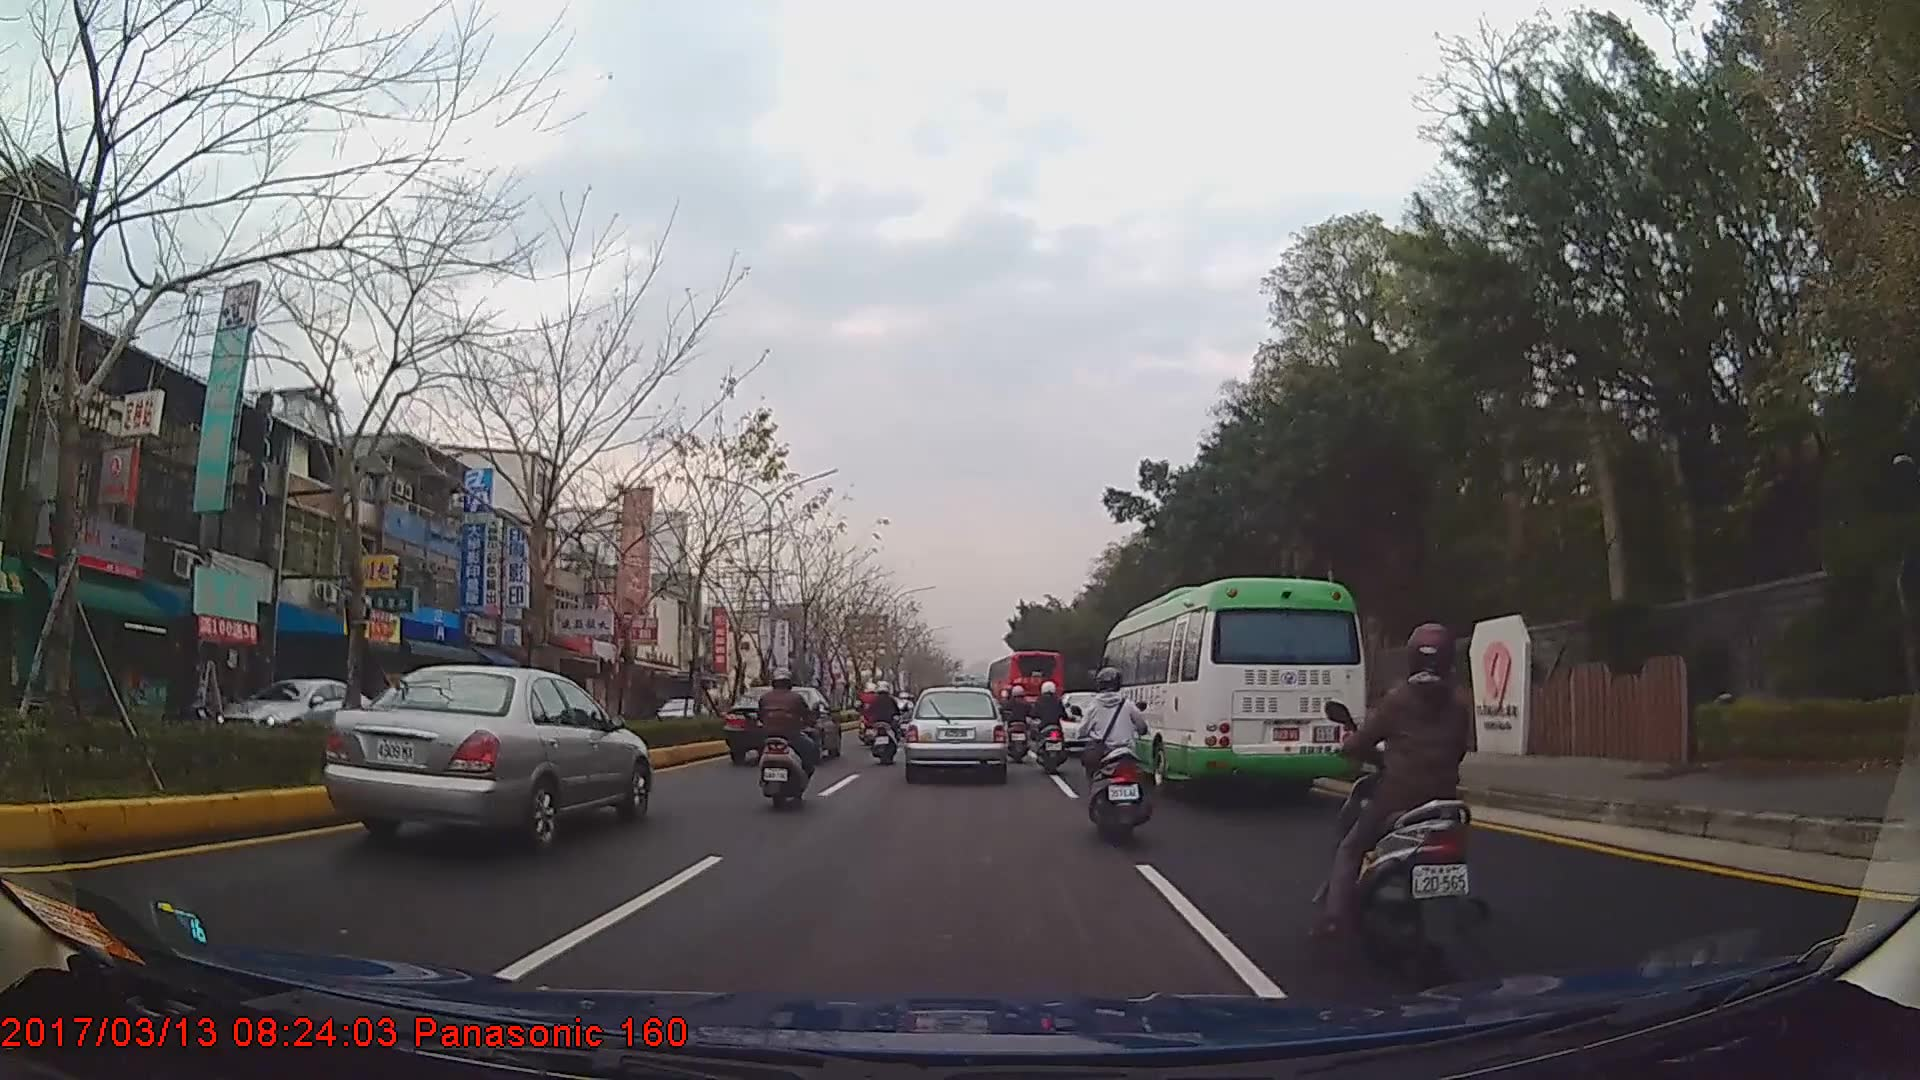rider: (1326, 617, 1492, 977), (1076, 664, 1151, 846), (753, 670, 821, 810), (1030, 680, 1068, 772), (865, 683, 904, 764), (999, 682, 1034, 763), (861, 682, 882, 747), (895, 692, 917, 742)
vehicle: (321, 657, 648, 849), (1096, 575, 1368, 796), (208, 673, 396, 755), (904, 685, 1008, 783), (723, 683, 840, 763), (987, 649, 1063, 739)
